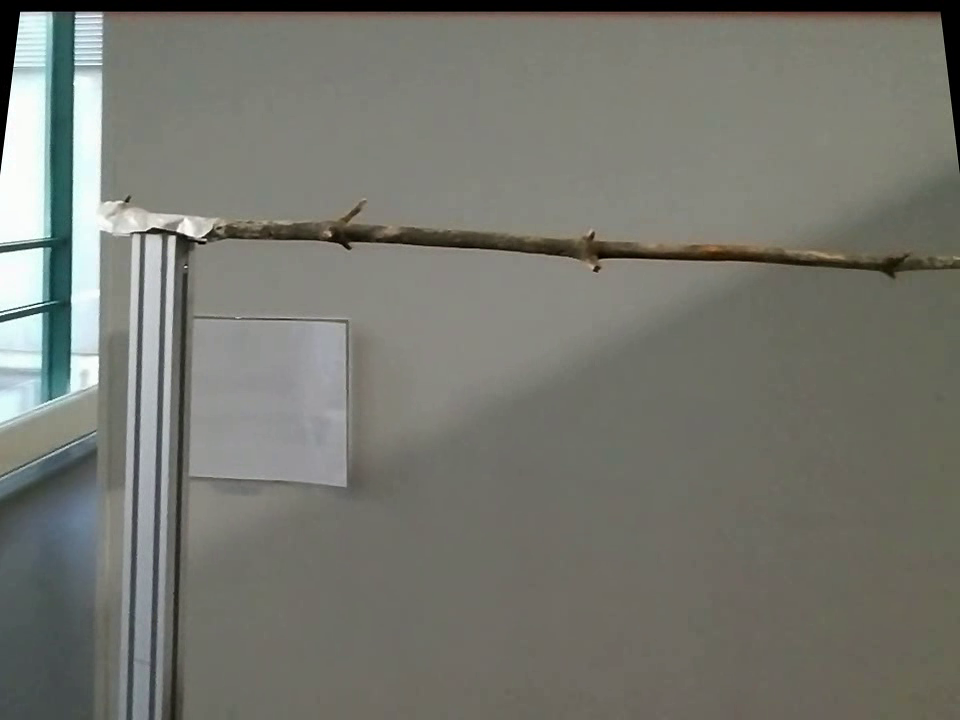aluminum_frame: (112, 240, 191, 718)
branch: (223, 188, 958, 295)
